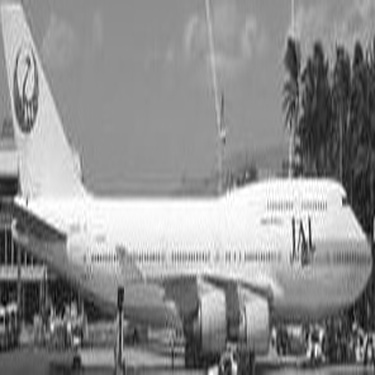airplane: (4, 6, 374, 373)
